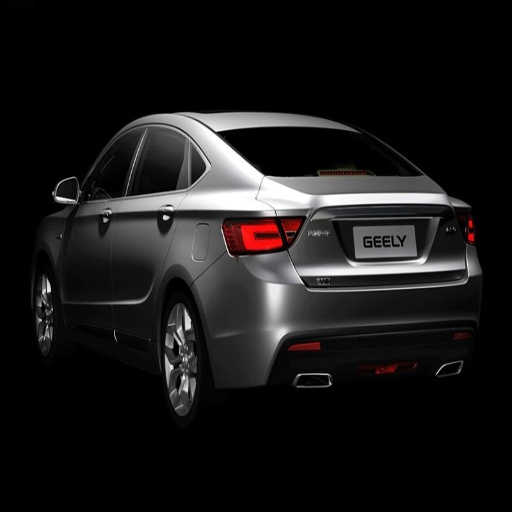back_bumper: (195, 243, 509, 394)
back_glass: (217, 128, 423, 176)
back_left_door: (112, 124, 191, 338)
tailgate: (276, 178, 456, 284)
